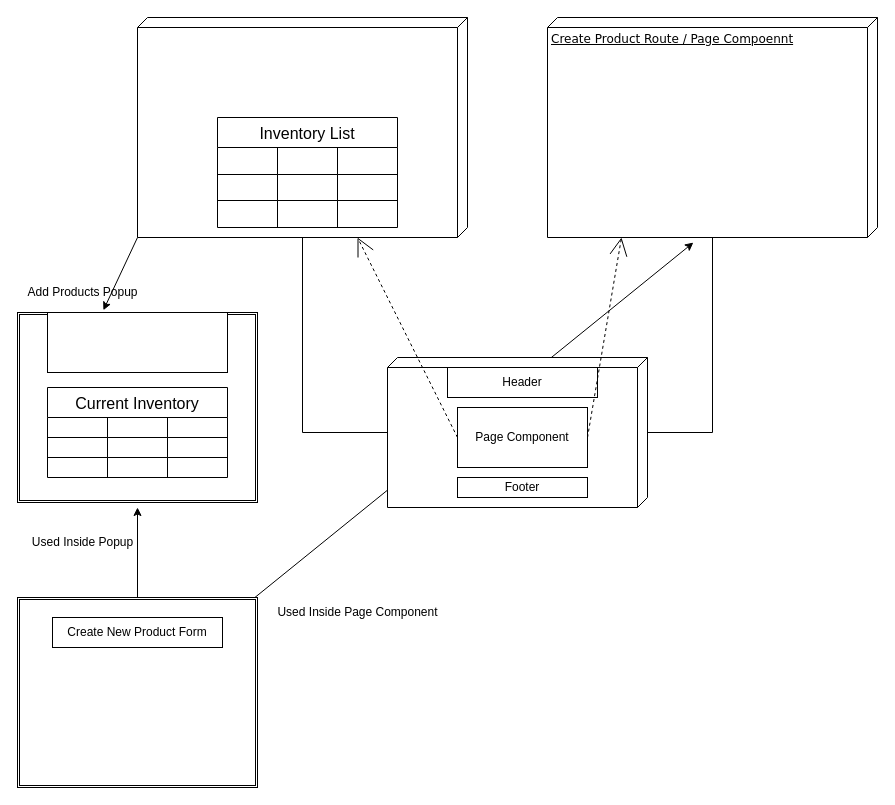
This 895x805 diagram has some shape labels left out. The box of each missing label's shape, as (x1, y1, x2, y2) in pixels:
Add products to Inventory Form: (46, 312, 228, 372)
Inventory-list Route / Page Compoennt: (136, 16, 468, 238)
Layout: (386, 356, 648, 508)
